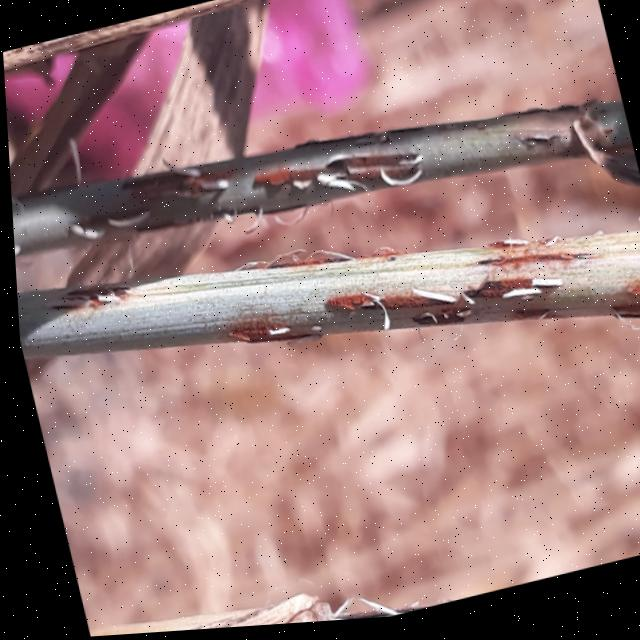black_stem_rust: (1, 0, 640, 512), (0, 0, 593, 112)
